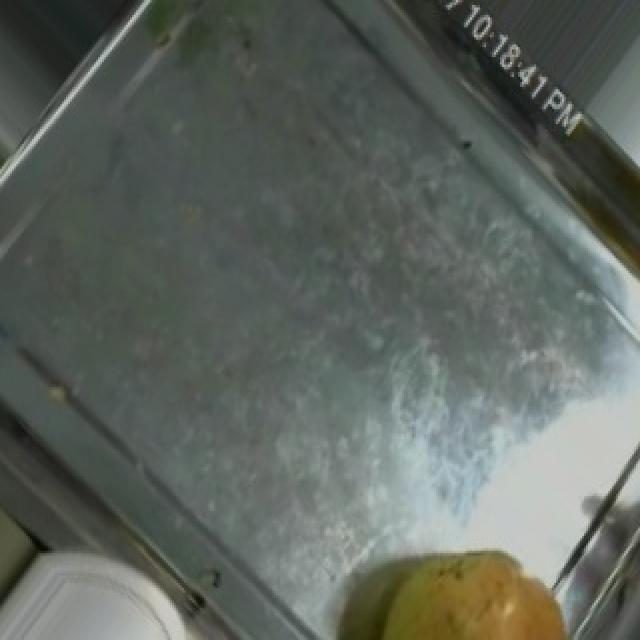fruit: (356, 526, 598, 640)
